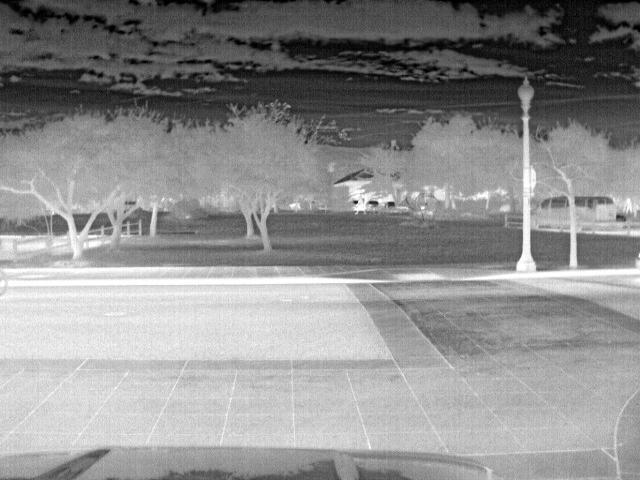car: (530, 196, 572, 231), (576, 193, 614, 225), (365, 199, 380, 212), (382, 200, 396, 213)
person: (353, 192, 368, 214)
